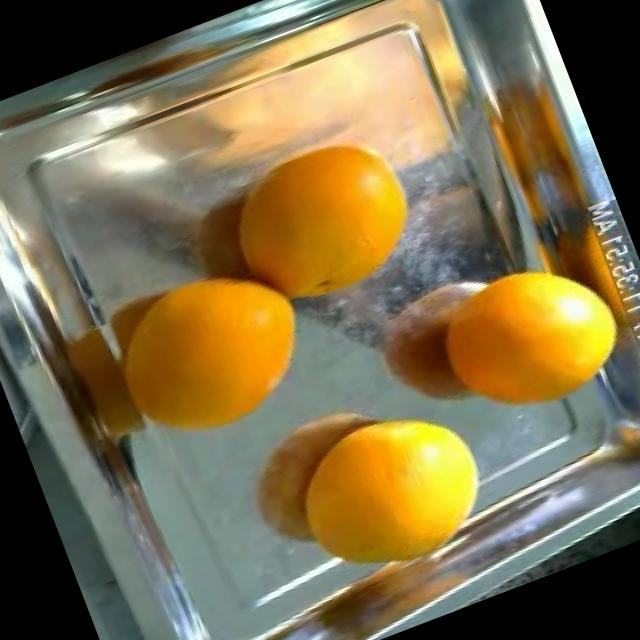Fruit: (406, 235, 640, 454)
